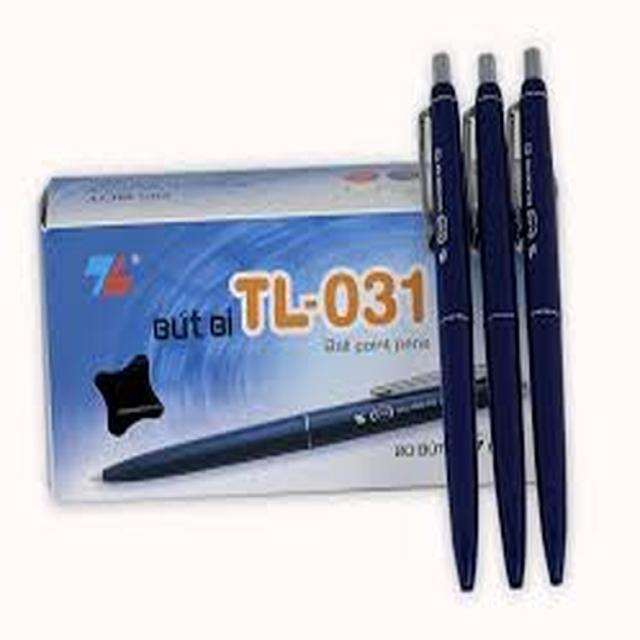box: (18, 139, 476, 505)
pen: (511, 25, 595, 596), (407, 35, 490, 608), (466, 17, 534, 605)
